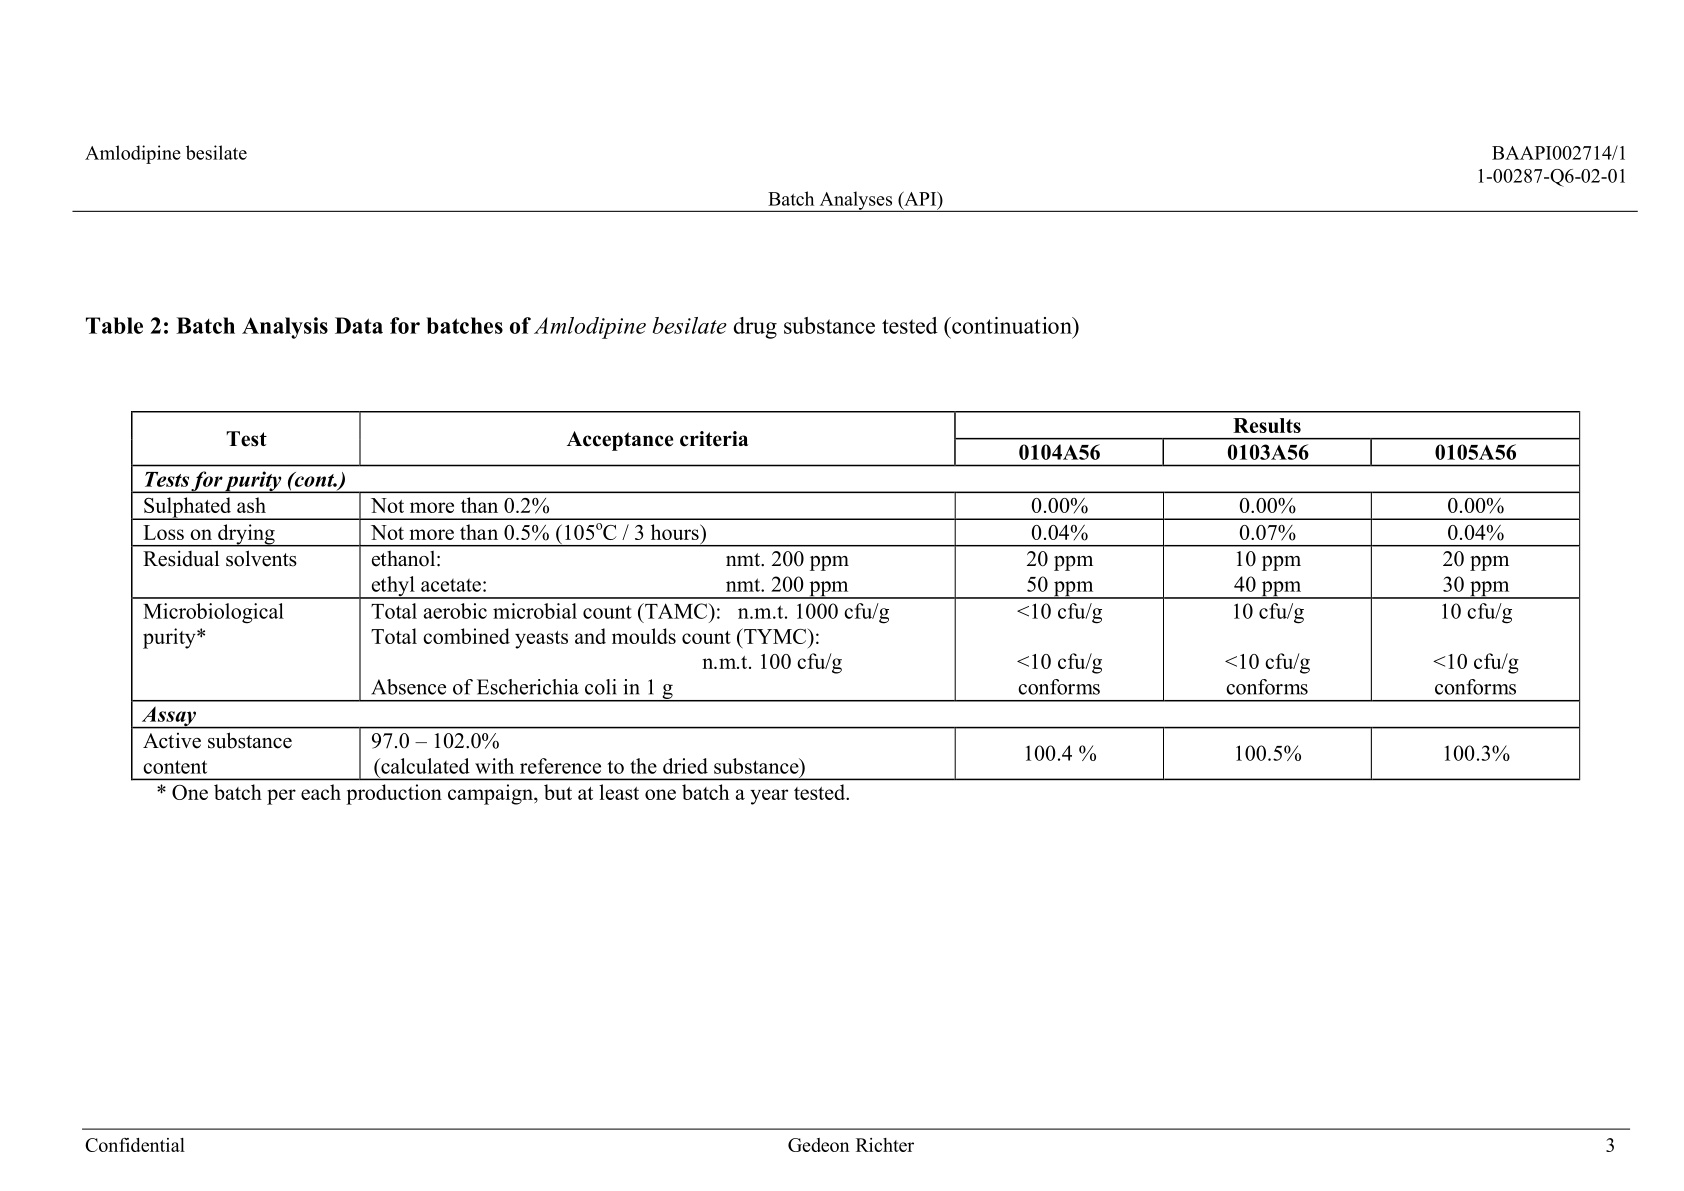merged_cells: (129, 410, 1582, 781)
